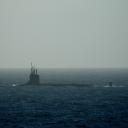submarine: (17, 63, 112, 89)
